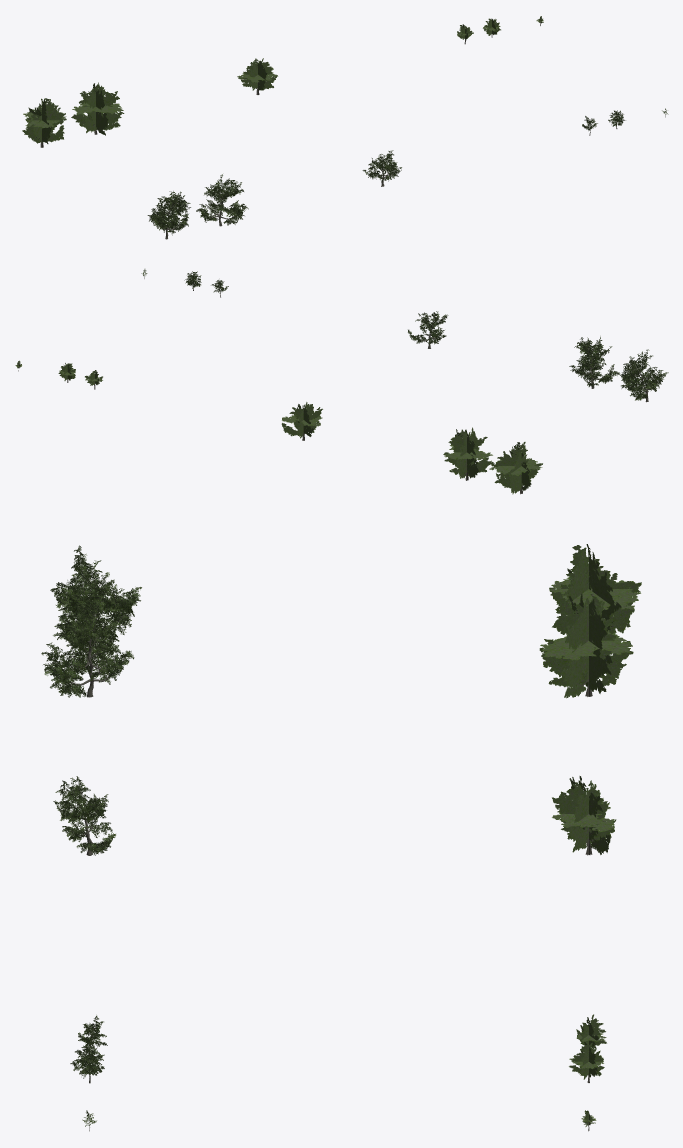
3 views of the same model, one above another, from view 1: azimuth 30°, elevation 25°; view 2: azimuth 150°, elevation 25°; view 3: azimuth 270°, elevation 25° (orthographic). The views are drawn at different scales.
Parts seen in each view (by area): view 1: Large_oak_tree_002_Billboard_Large oak tree_002_Billboard_Ma, Large_oak_tree_001_Billboard_Large oak tree_001_Billboard_Ma, Large_oak_tree_002_LOD0, Large_oak_tree_001_LOD0, Big_oak_tree__001_Billboard_Big oak tree _001_Billboard_Mat_, Big_oak_tree__001_LOD0; view 2: Large_oak_tree_002_Billboard_Large oak tree_002_Billboard_Ma, Large_oak_tree_001_Billboard_Large oak tree_001_Billboard_Ma, Large_oak_tree_001_LOD0, Large_oak_tree_002_LOD0, Big_oak_tree__001_Billboard_Big oak tree _001_Billboard_Mat_, Big_oak_tree__001_LOD0; view 3: Large_oak_tree_002_Billboard_Large oak tree_002_Billboard_Ma, Large_oak_tree_002_LOD0, Large_oak_tree_001_Billboard_Large oak tree_001_Billboard_Ma, Large_oak_tree_001_LOD0, Big_oak_tree__001_Billboard_Big oak tree _001_Billboard_Mat_, Big_oak_tree__001_LOD0.
Boxes of the visible parts, x1,y1,x2,y2 form: Large_oak_tree_002_Billboard_Large oak tree_002_Billboard_Ma: (71,82,124,135); Large_oak_tree_001_Billboard_Large oak tree_001_Billboard_Ma: (22,98,66,147); Large_oak_tree_002_LOD0: (196,174,248,226); Large_oak_tree_001_LOD0: (147,191,190,239); Big_oak_tree__001_Billboard_Big oak tree _001_Billboard_Mat_: (237,58,277,94); Big_oak_tree__001_LOD0: (362,150,401,186); Large_oak_tree_002_Billboard_Large oak tree_002_Billboard_Ma: (443,427,493,480); Large_oak_tree_001_Billboard_Large oak tree_001_Billboard_Ma: (488,442,542,494); Large_oak_tree_001_LOD0: (614,349,668,402); Large_oak_tree_002_LOD0: (569,336,618,388); Big_oak_tree__001_Billboard_Big oak tree _001_Billboard_Mat_: (281,402,322,440); Big_oak_tree__001_LOD0: (408,311,448,348); Large_oak_tree_002_Billboard_Large oak tree_002_Billboard_Ma: (539,594,633,698); Large_oak_tree_002_LOD0: (41,594,134,697); Large_oak_tree_001_Billboard_Large oak tree_001_Billboard_Ma: (549,544,641,633); Large_oak_tree_001_LOD0: (50,545,141,643); Big_oak_tree__001_Billboard_Big oak tree _001_Billboard_Mat_: (552,776,616,855); Big_oak_tree__001_LOD0: (53,776,115,855).
Bounding box in the file's own units: 289 × 27.19 × 145.
8 materials, 8 textured.
